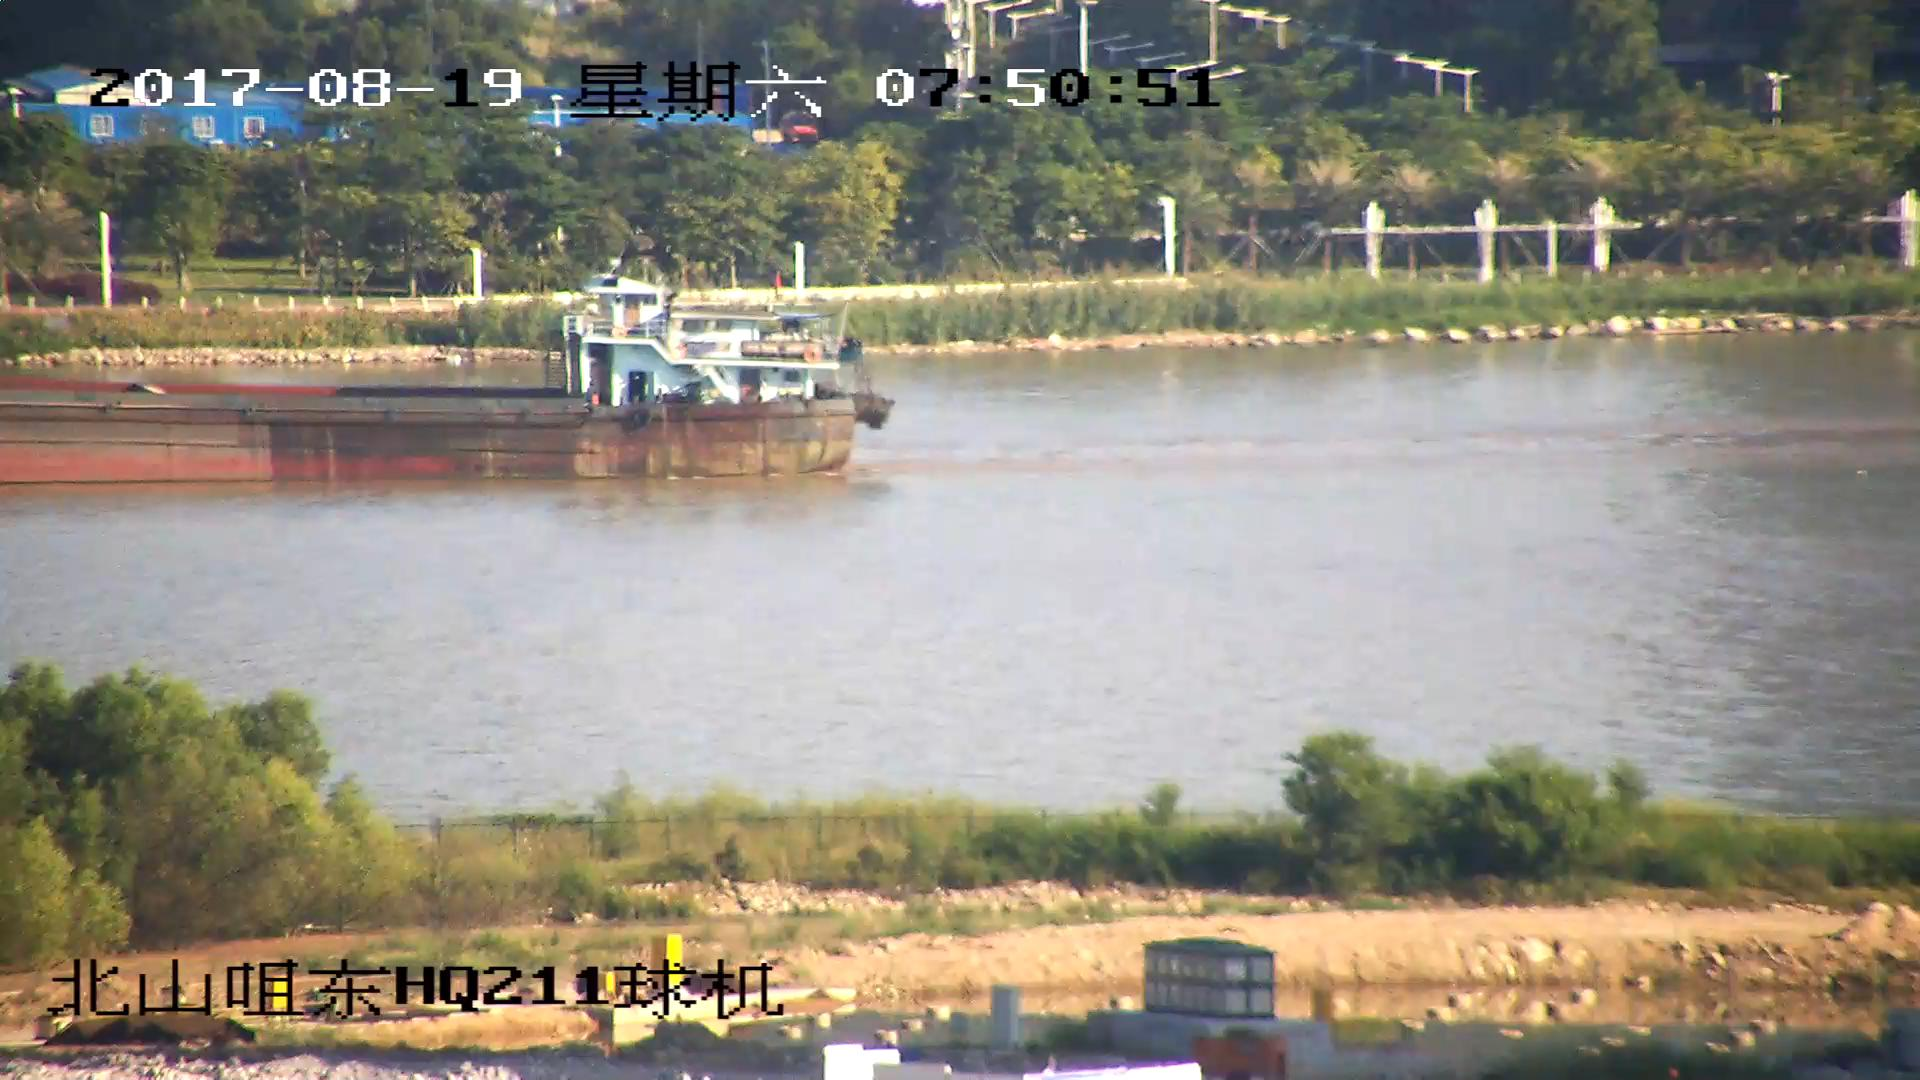bulk cargo carrier: (1, 275, 882, 484)
